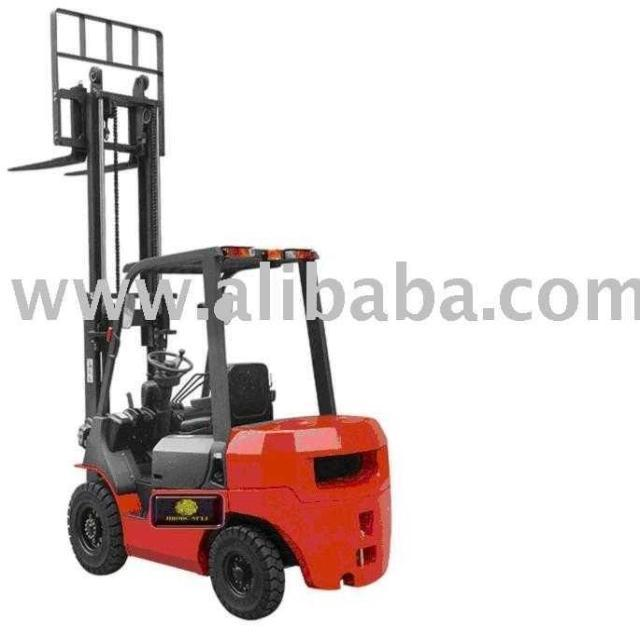forklift: (48, 5, 395, 619)
